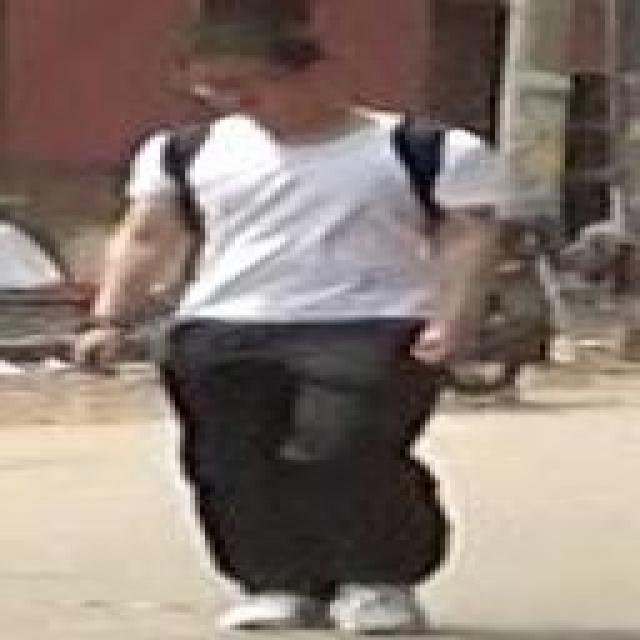adult: (116, 28, 516, 636)
